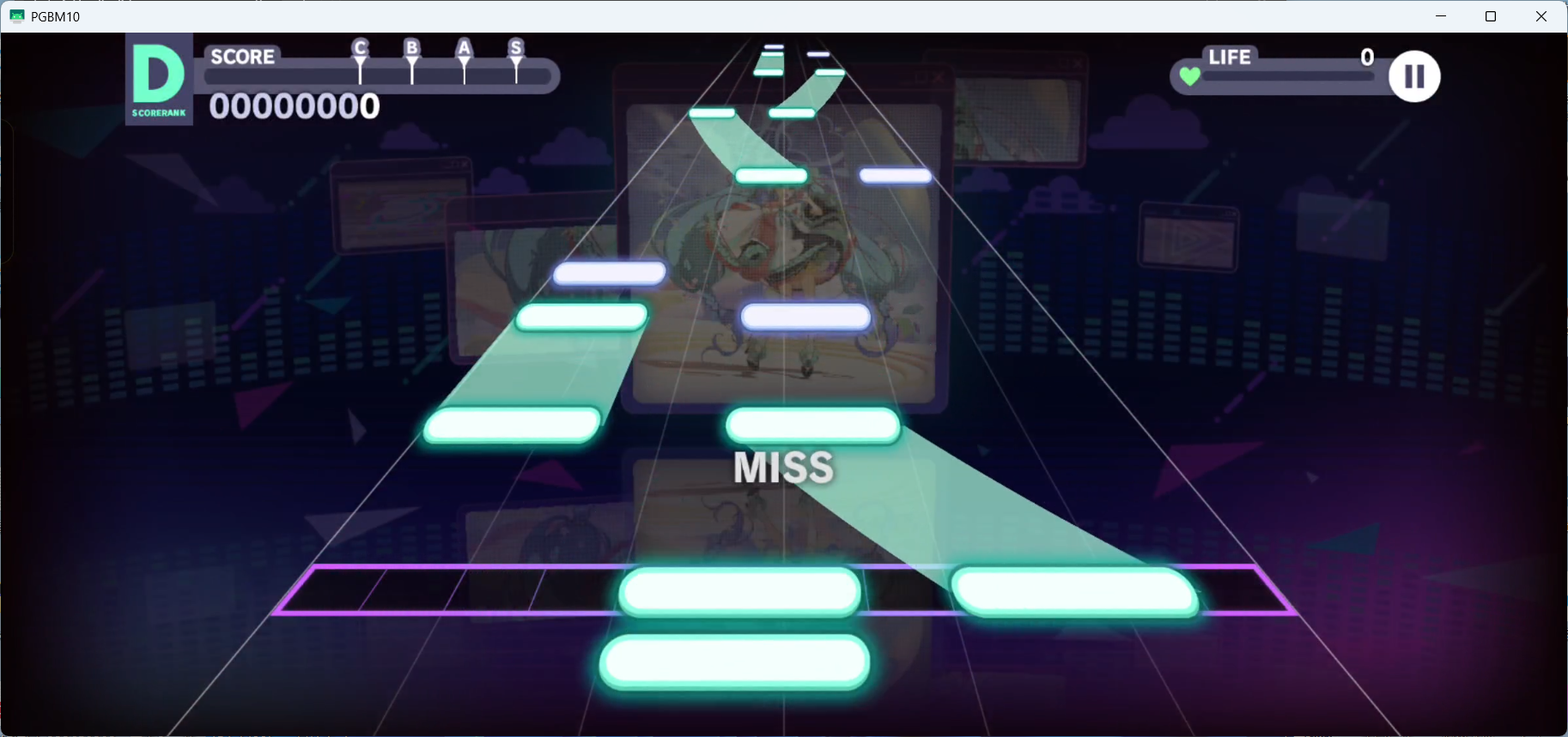hold: (748, 446, 1146, 563), (437, 331, 645, 408), (690, 118, 796, 167), (775, 76, 845, 108), (756, 57, 784, 68)
tap: (598, 632, 869, 691), (951, 565, 1200, 620), (618, 565, 860, 618), (422, 406, 602, 446), (726, 408, 901, 445), (515, 304, 648, 335), (741, 303, 872, 329), (551, 262, 665, 287), (859, 166, 934, 185), (733, 166, 808, 185), (689, 108, 735, 118), (769, 108, 815, 118), (753, 69, 784, 76), (816, 69, 845, 76), (806, 51, 830, 57), (764, 44, 784, 50), (761, 52, 783, 57)
